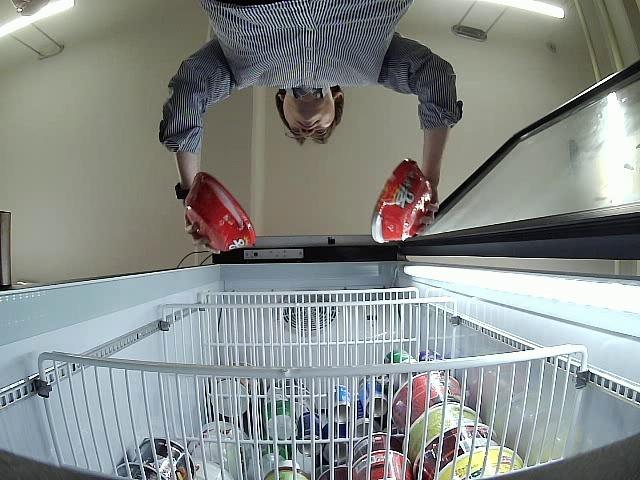00_hand: (184, 213, 220, 258), (416, 194, 439, 237)
10_wangTtukkeong: (183, 171, 256, 256), (371, 156, 431, 246)
